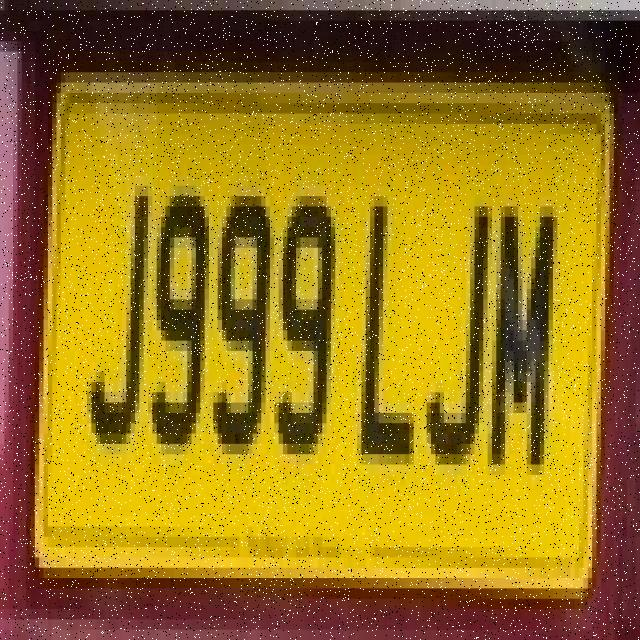licenseplate: (37, 46, 602, 604)
